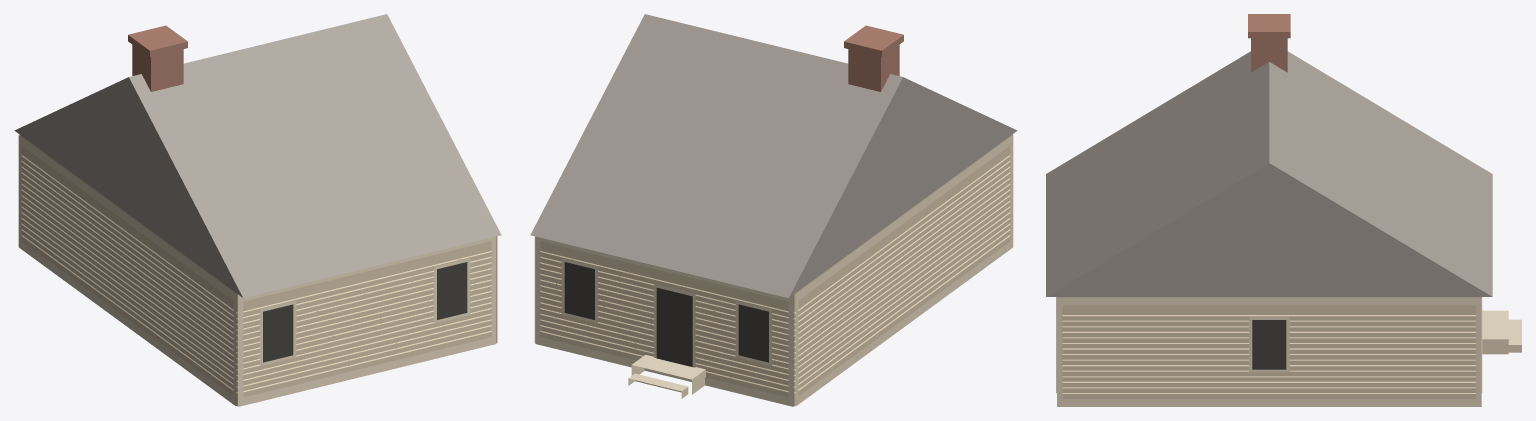
The model's file is recon_1835_blk_randolph_wells_d5_03__inferred_1835.glb.
The picture shows the model from 3 angles, left to right: view 1: azimuth 30°, elevation 25°; view 2: azimuth 150°, elevation 25°; view 3: azimuth 270°, elevation 25°; orthographic projection. The views are drawn at different scales.
Visible parts, largest first — view 1: recon_1835_blk_randolph_wells_d5_03__inferred_1835; view 2: recon_1835_blk_randolph_wells_d5_03__inferred_1835; view 3: recon_1835_blk_randolph_wells_d5_03__inferred_1835.
Boxes of the visible parts, x1,y1,x2,y2 form: recon_1835_blk_randolph_wells_d5_03__inferred_1835: [14, 14, 501, 406]; recon_1835_blk_randolph_wells_d5_03__inferred_1835: [530, 14, 1017, 406]; recon_1835_blk_randolph_wells_d5_03__inferred_1835: [1046, 14, 1521, 406].
Bounding box in the file's own units: 6.72 × 6.91 × 10.86.
